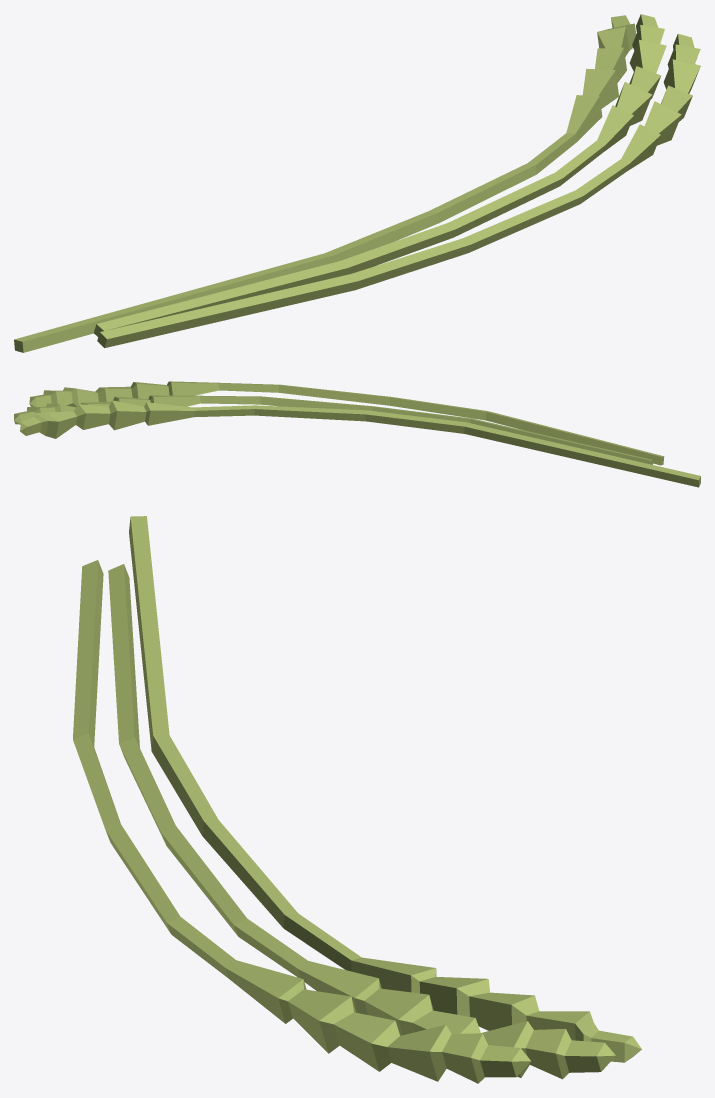
The model's file is Rice_Crop.glb.
The picture shows the model from 3 angles, top to bottom: view 1: azimuth 30°, elevation 25°; view 2: azimuth 150°, elevation 25°; view 3: azimuth 270°, elevation 25°; orthographic projection. The views are drawn at different scales.
Parts seen in each view (by area): view 1: Rice_Crop; view 2: Rice_Crop; view 3: Rice_Crop.
Boxes of the visible parts, box(x1,y1,x2,y2) form: Rice_Crop: box(14, 14, 700, 352); Rice_Crop: box(14, 381, 700, 487); Rice_Crop: box(73, 516, 641, 1083).
Bounding box in the file's own units: 0.9063 × 0.0457 × 0.3868.
